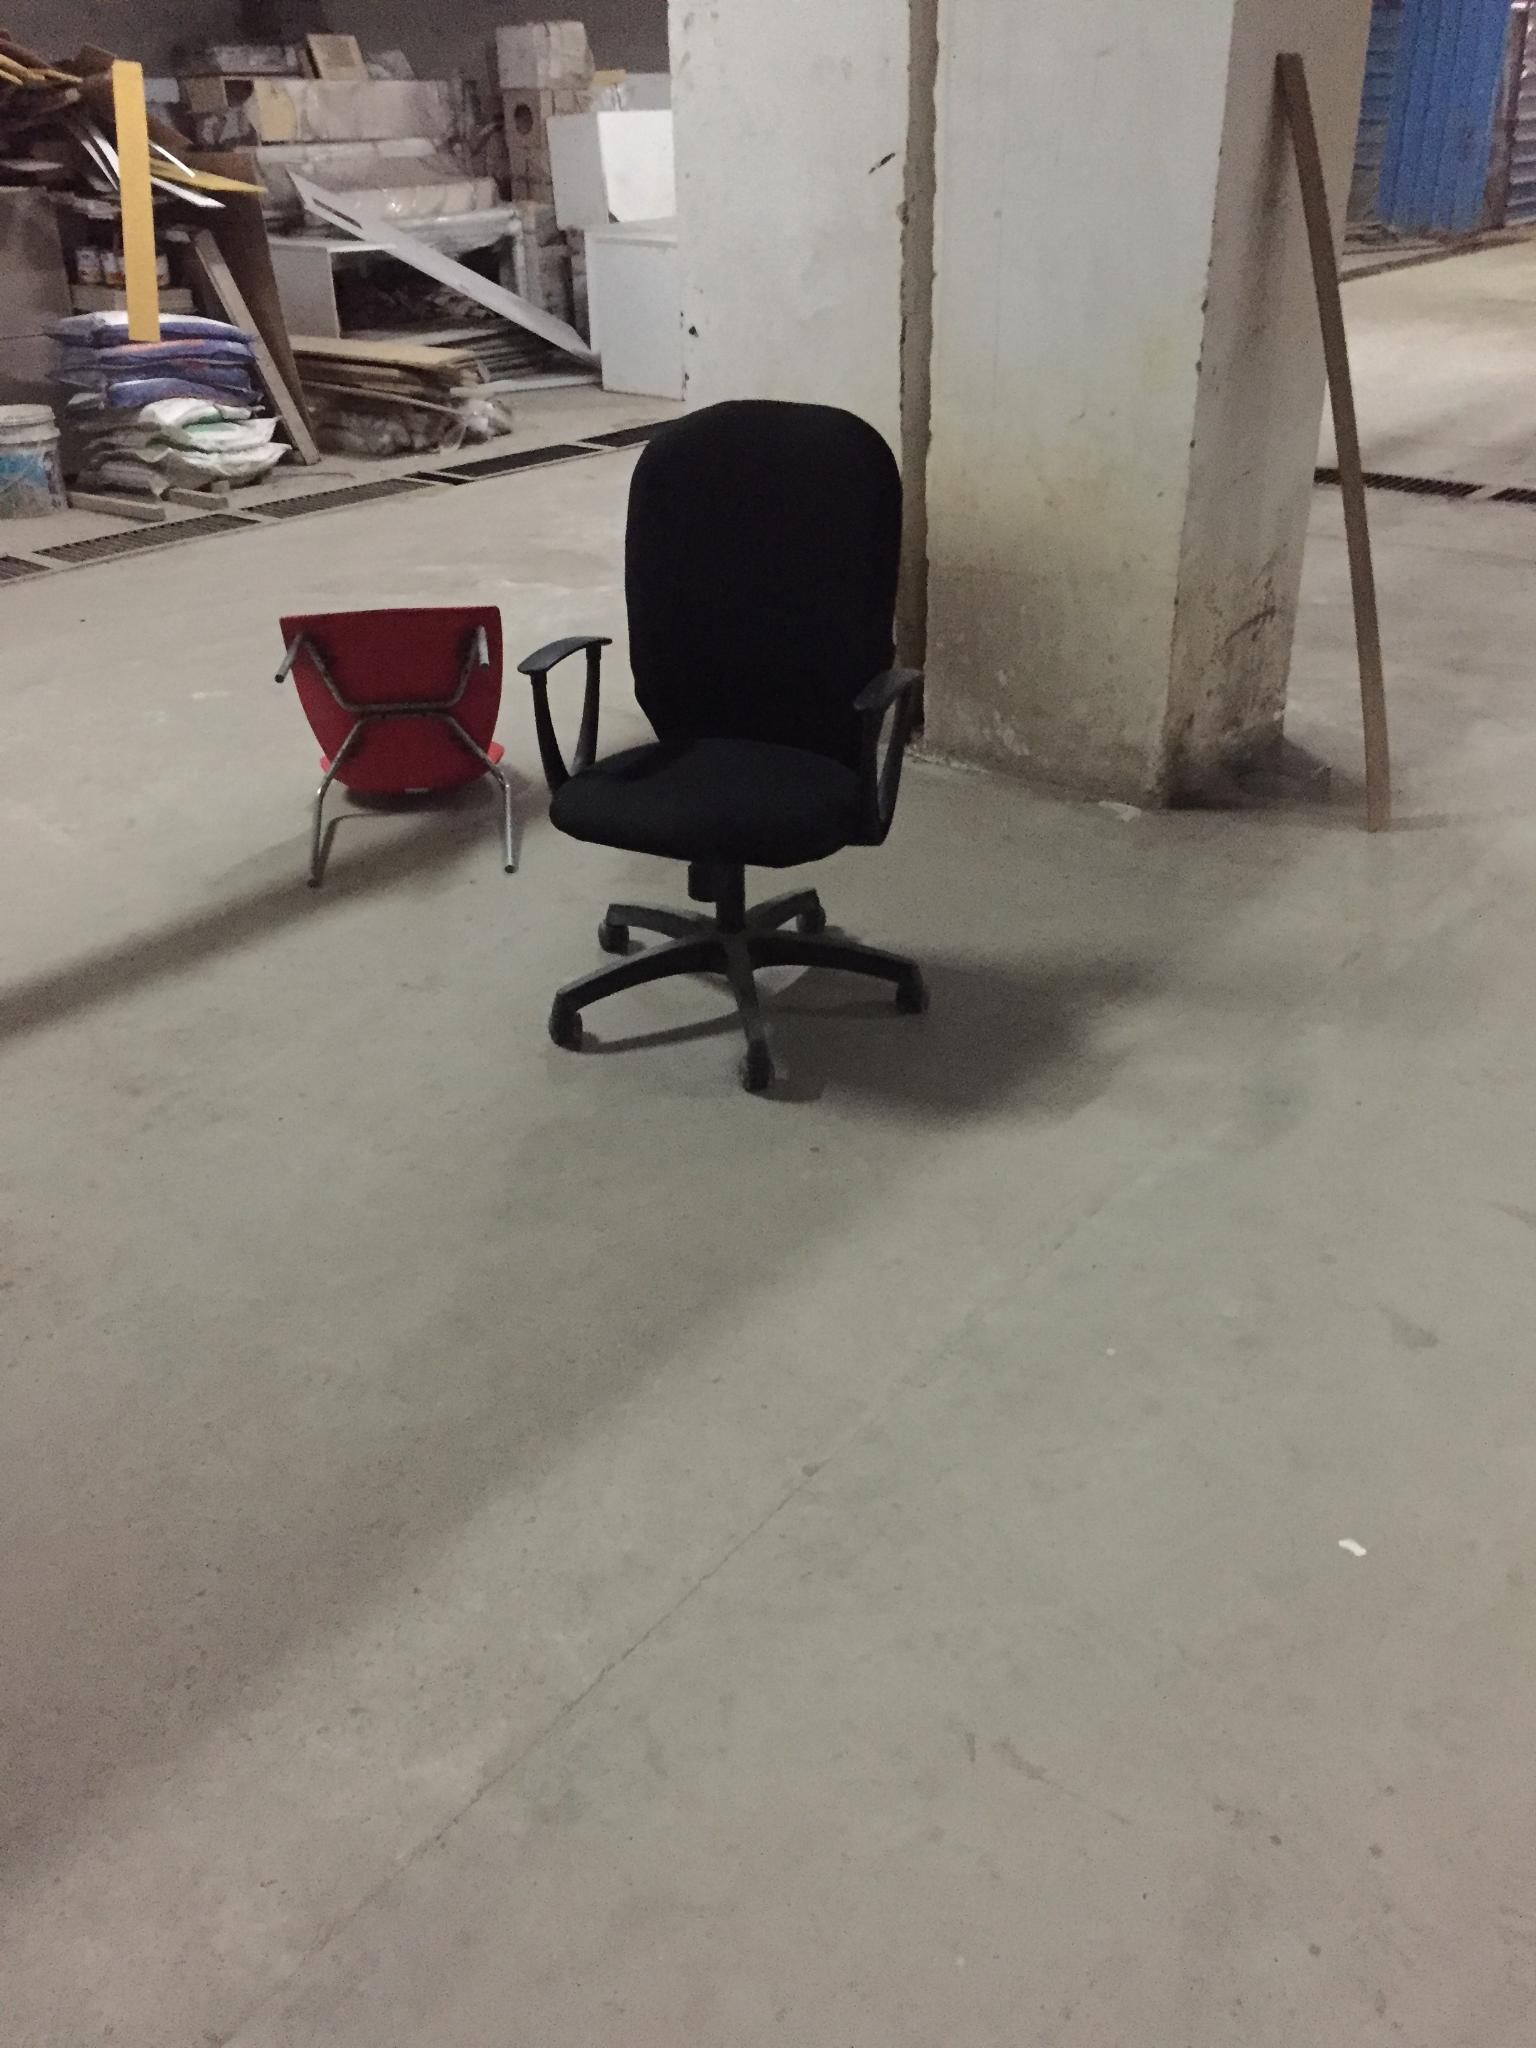chair: (518, 397, 931, 1092), (273, 605, 516, 889)
